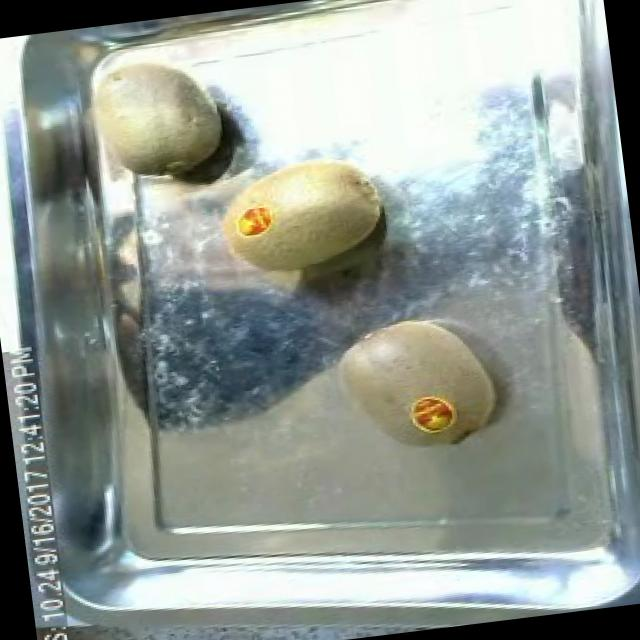Fruit: (51, 18, 240, 198), (318, 296, 512, 466), (210, 139, 399, 291)
